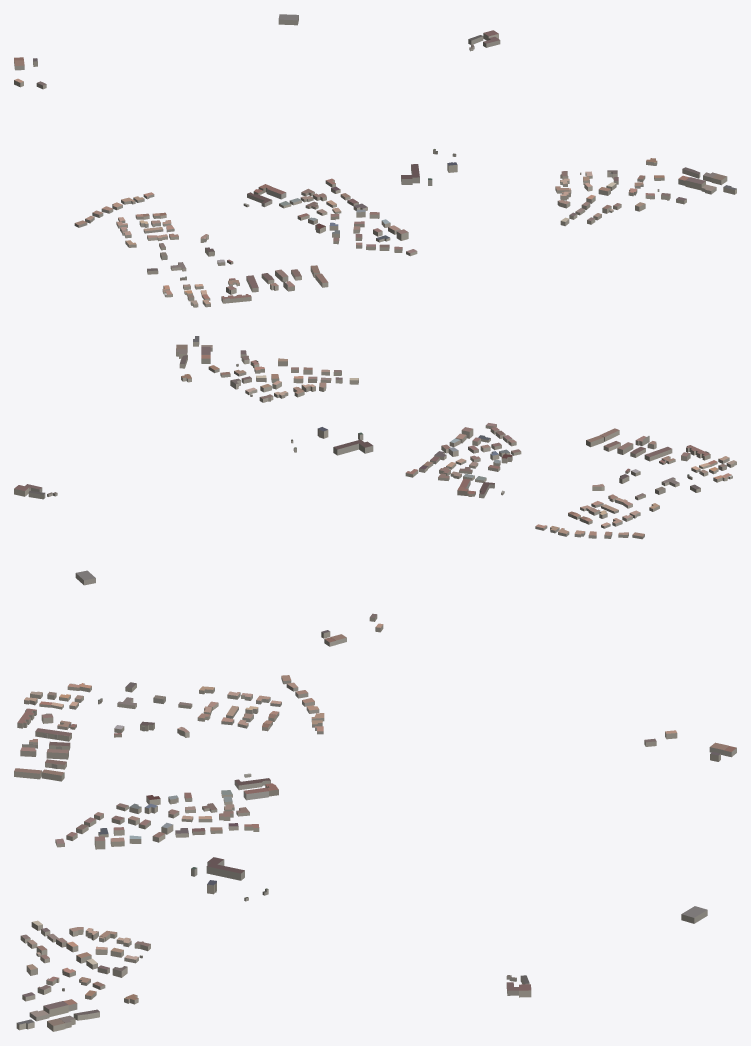
3 renders of one model, top to bottom at view 1: azimuth 30°, elevation 25°; view 2: azimuth 150°, elevation 25°; view 3: azimuth 270°, elevation 25°, orthographic. The views are drawn at different scales.
Visible parts, largest first — view 1: tuile; view 2: tuile; view 3: tuile.
Part boxes in pixels (box(x1,y1,x2,y2)): tuile: box(14, 14, 736, 307); tuile: box(14, 336, 736, 646); tuile: box(14, 675, 736, 1031).
Size of the model in its own units: 993 by 44.38 by 921.
